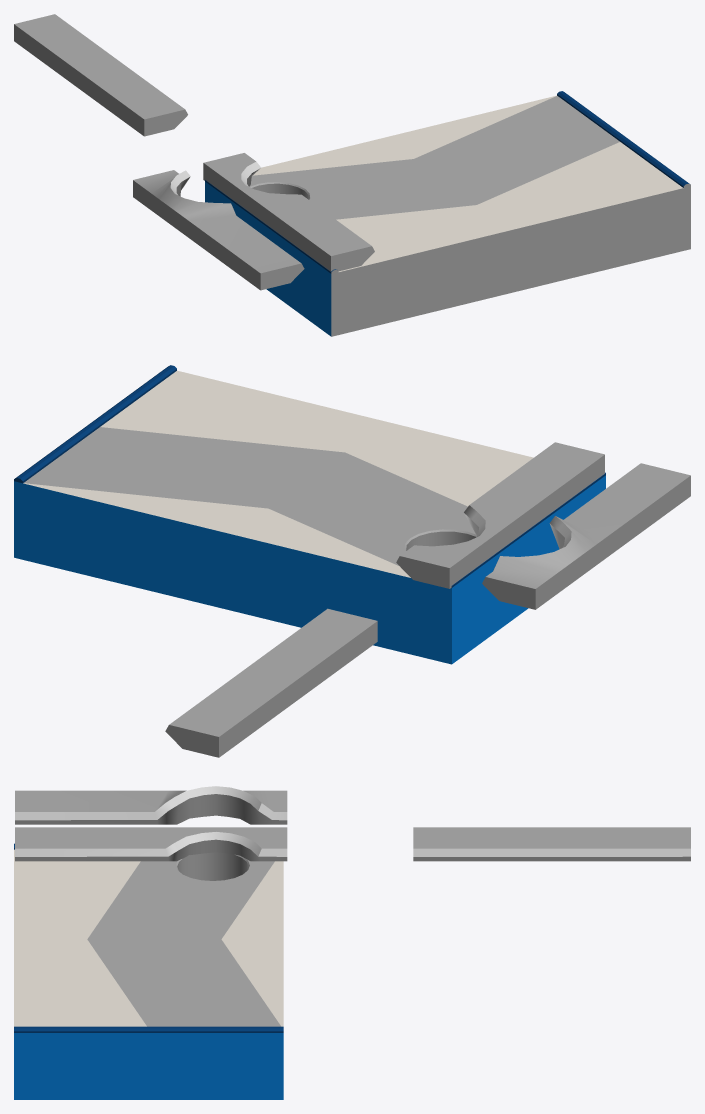
Rendered from bilardo yolu delikler.fbx.
3 views of the same model, one above another, from view 1: azimuth 30°, elevation 25°; view 2: azimuth 150°, elevation 25°; view 3: azimuth 270°, elevation 25° (orthographic). The views are drawn at different scales.
Visible parts, largest first — view 1: Box040, pCube3, pCube2, pCube1; view 2: Box040, pCube3, pCube2, pCube1; view 3: Box040, pCube3, pCube2, pCube1.
Boxes of the visible parts, x1,y1,x2,y2 form: Box040: [205, 91, 690, 336]; pCube3: [14, 14, 187, 136]; pCube2: [133, 170, 304, 290]; pCube1: [203, 153, 374, 271]; Box040: [14, 365, 605, 664]; pCube3: [165, 608, 377, 757]; pCube2: [482, 463, 690, 609]; pCube1: [396, 442, 604, 588]; Box040: [14, 843, 283, 1099]; pCube3: [413, 827, 690, 861]; pCube2: [15, 786, 287, 824]; pCube1: [15, 827, 287, 861].
Size of the model in its own units: 279 by 54.96 by 357.
